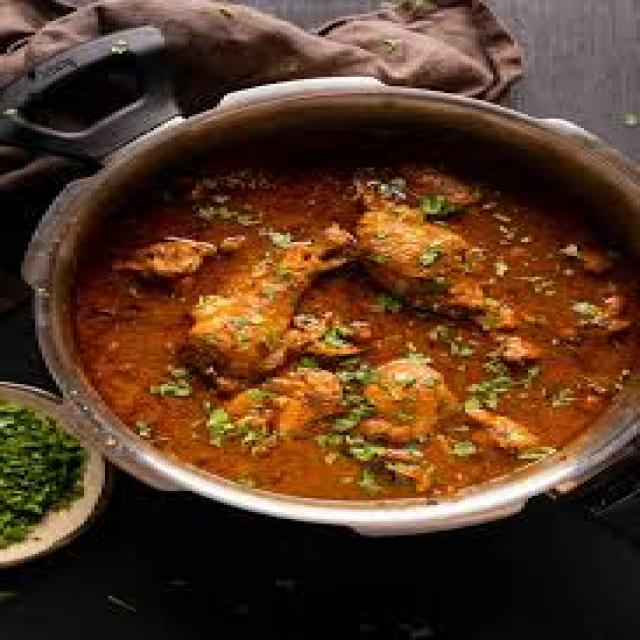Chicken Curry: (84, 130, 626, 508)
